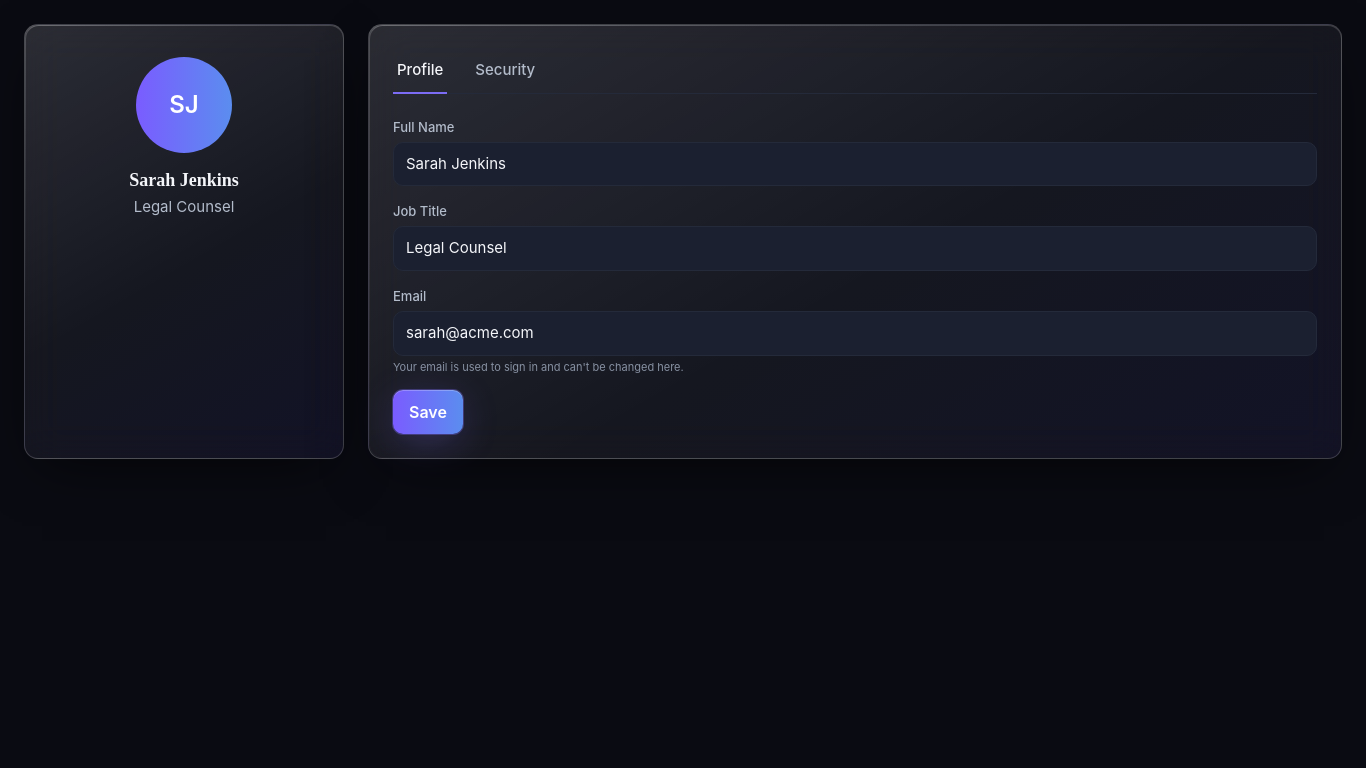
Test: AccountSettingsView (spec 023 AC-9..12) › change_password_mismatch_blocks_the_call
Click the tab "Security": (505,71) [471,49,539,94]
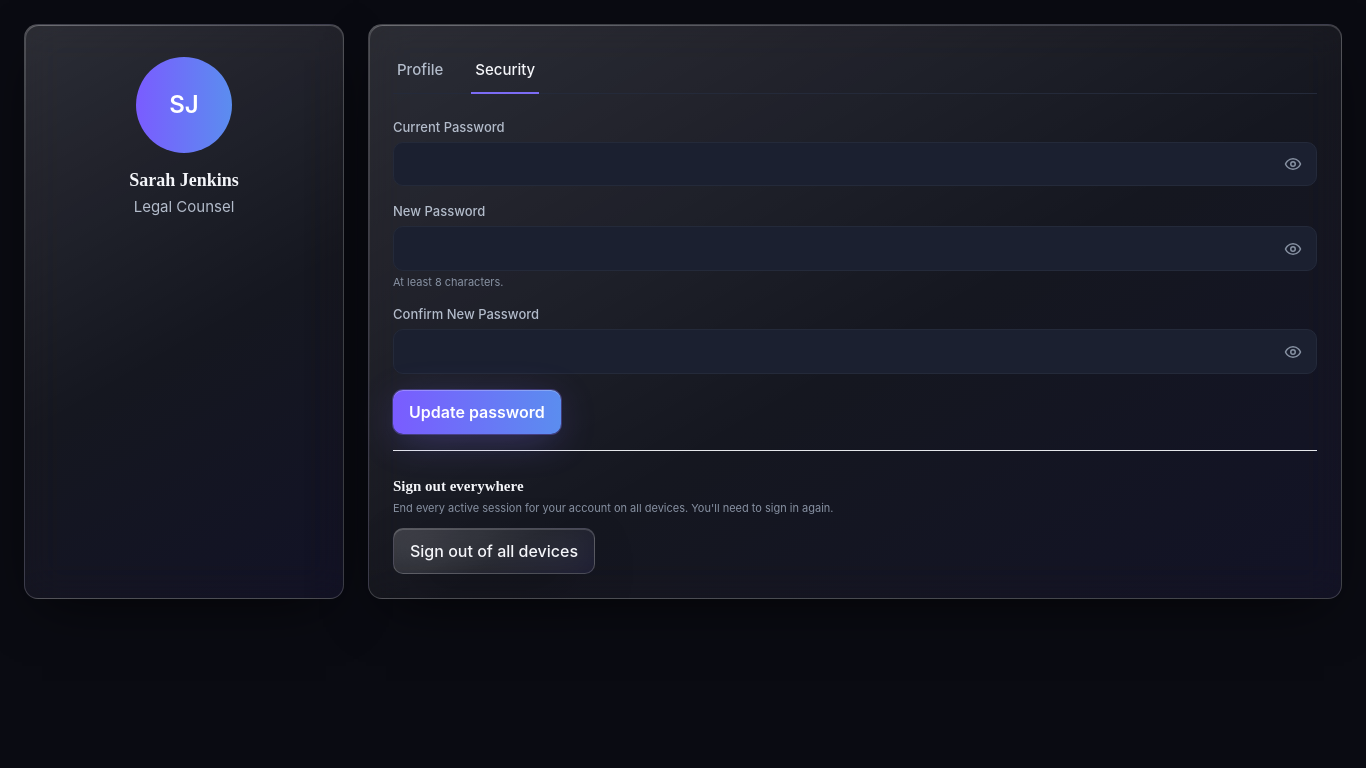
In the password field labelled "Current Password": (855,164) [393,142,1317,186], type "OldPass1!"
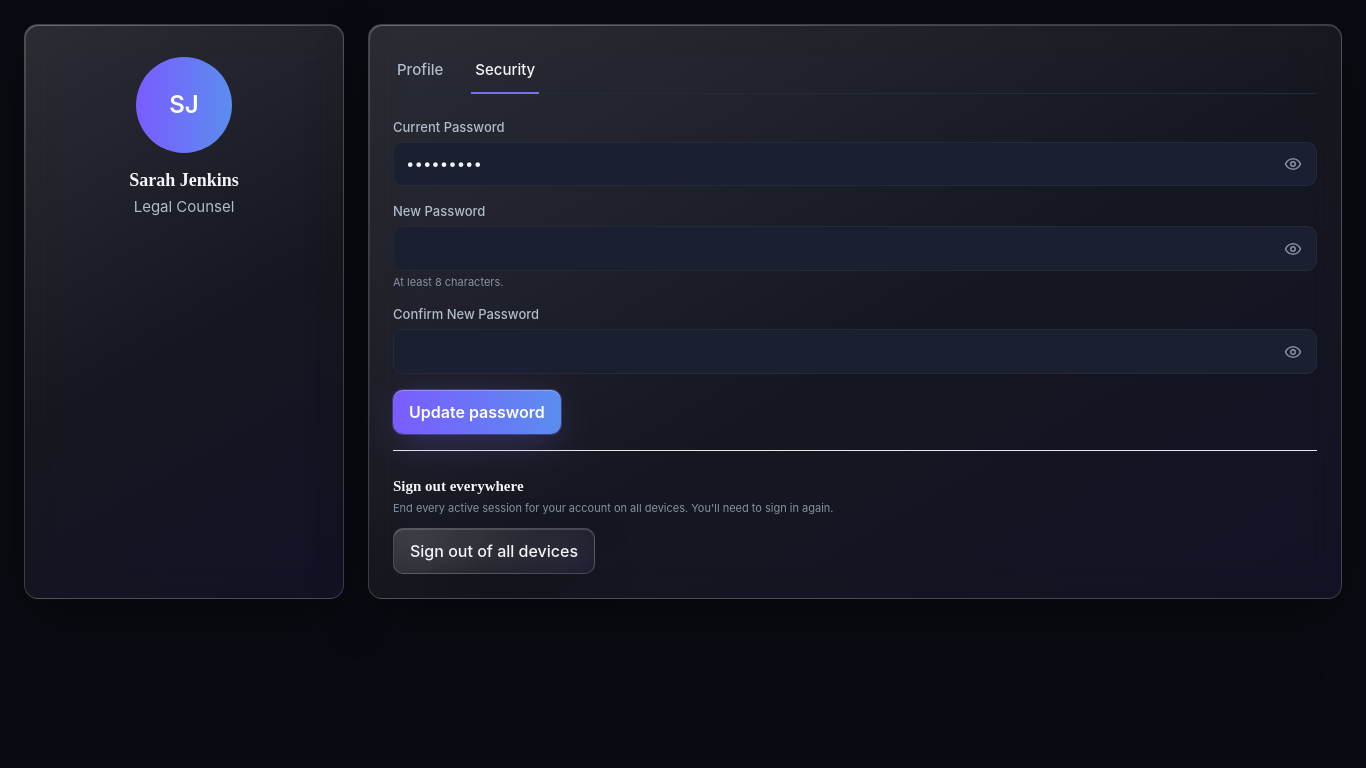
In the password field labelled "New Password": (855,249) [393,226,1317,271], type "NewPassw1!"
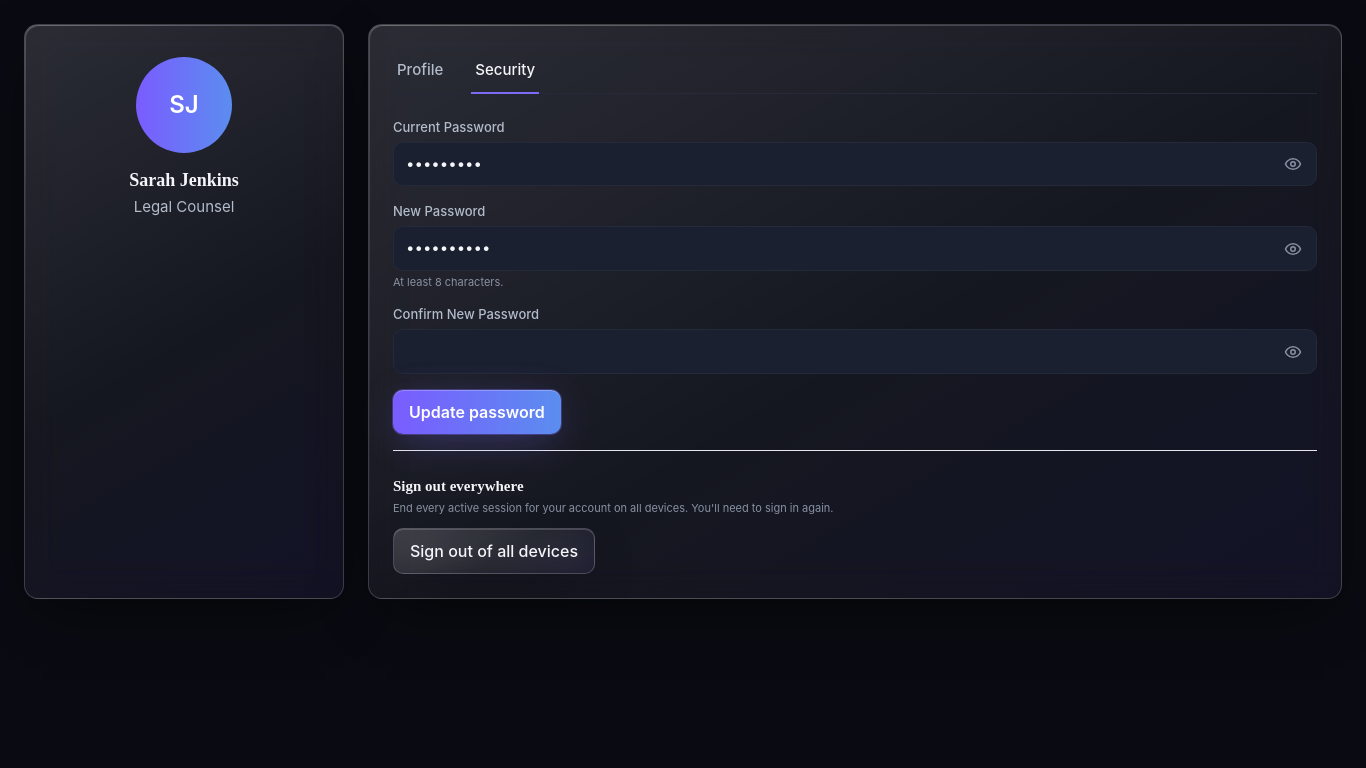
In the password field labelled "Confirm New Password": (855,352) [393,329,1317,374], type "different"
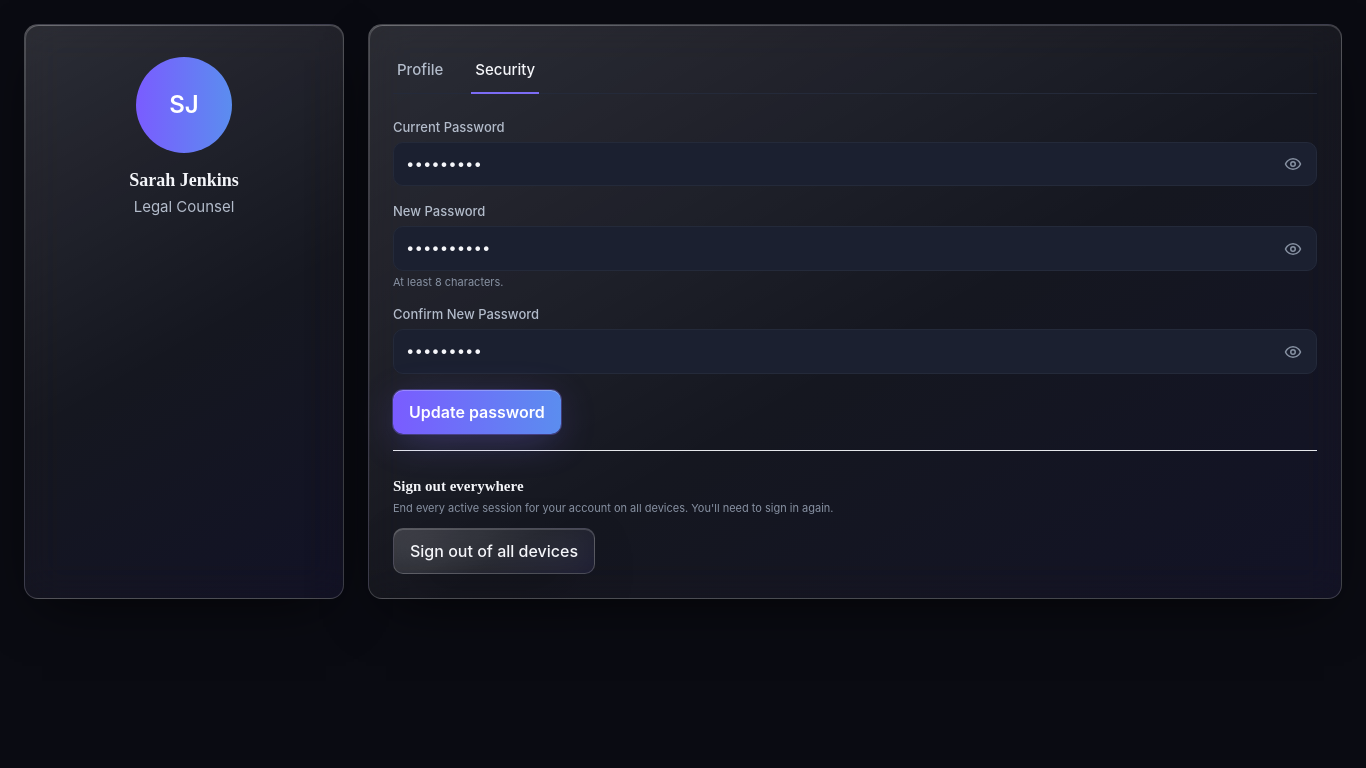
Click the button "Update password": (477,412) [393,390,561,434]
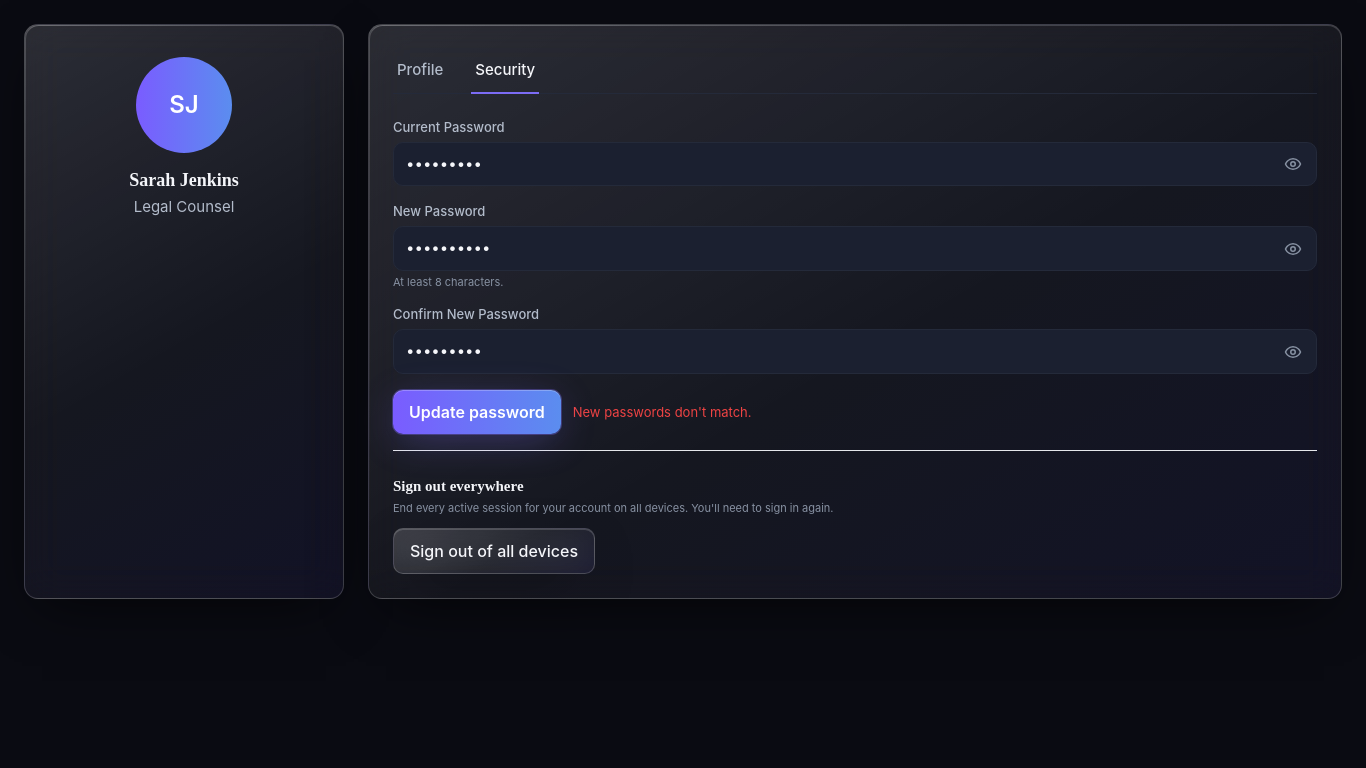
Now the text "New passwords don't match." is shown, box [573,403,752,421]
